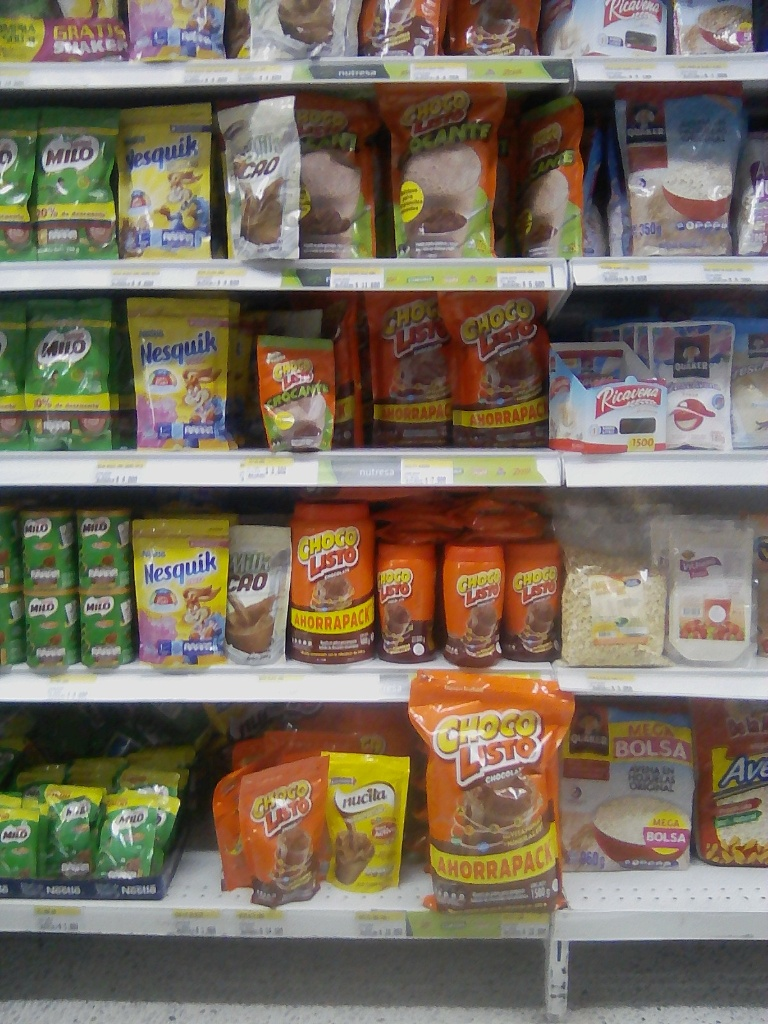COL0170102DYP10000: (251, 328, 338, 453)
COL0170102DYP25000: (377, 82, 503, 258)
COL0170103DYP1,500: (397, 671, 579, 914)
COL0170103DYP20000: (234, 757, 336, 913)
COL0170103DYP40000: (364, 292, 446, 443)
COL0170103TRR00100: (288, 494, 382, 661)
COL0170103TRR30000: (370, 541, 437, 663)
COL0170203DYP25000: (31, 106, 121, 260)
COL0170203LAT20000: (17, 508, 77, 590)
COL0170303DYP20000: (109, 103, 214, 256)
COL0170305DYP20000: (131, 512, 232, 670)
